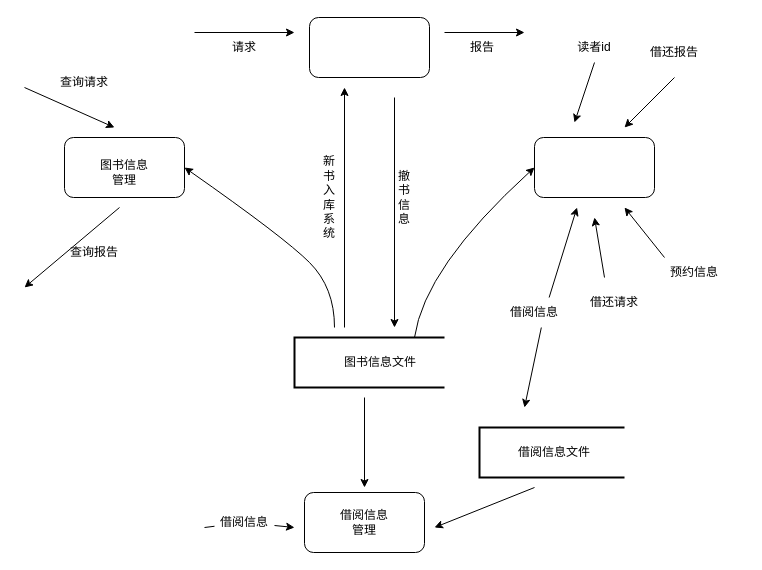
This 762x570 diagram has some shape labels left out. Each missing label, with the box of its shape:
借书/还书管理: (534, 136, 654, 198)
进书/撤书 管理: (308, 16, 430, 78)
